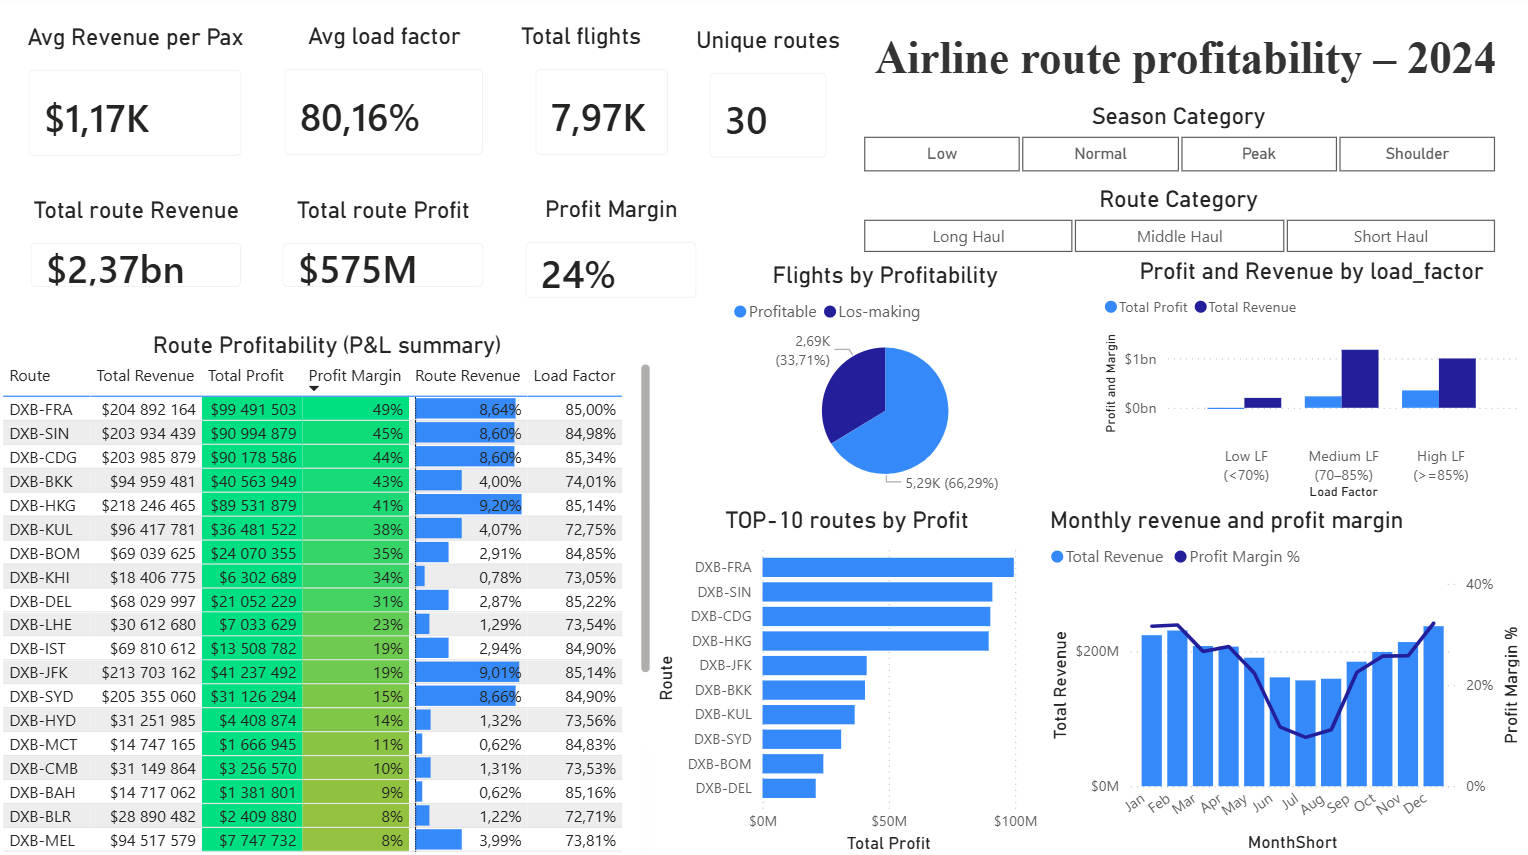

The dashboard page shown, as its layout file describes it:
{"tool":"powerbi","page":{"name":"Page 1","canvas":[1280,720],"ordinal":0},"visuals":[{"type":"cardVisual","title":"Total route Revenue","fields":{"Data":["airline_route_profitability.Total Revenue sum"]},"box":[11.7,167.3,210.8,93.7],"z":0},{"type":"cardVisual","title":"Total route Profit","fields":{"Data":["airline_route_profitability.Total Profit"]},"box":[222.5,167.3,202.5,93.7],"z":1000},{"type":"cardVisual","title":"Profit Margin","fields":{"Data":["airline_route_profitability.Profit Margin %"]},"box":[425.2,166.6,177.5,103],"z":2000},{"type":"cardVisual","title":"Avg Revenue per Pax","fields":{"Data":["airline_route_profitability.Revenue per Passanger"]},"box":[9.8,22.2,212.8,128.6],"z":3000},{"type":"cardVisual","title":"Avg load factor","fields":{"Data":["airline_route_profitability.Avg Load Factor %"]},"box":[224.2,21.8,200.8,128.8],"z":4000},{"type":"tableEx","title":"Route Profitability (P&L summary)","fields":{"Values":["airline_route_profitability.Route","airline_route_profitability.Total Revenue sum","airline_route_profitability.Total Profit","airline_route_profitability.Profit Margin %","airline_route_profitability.Route Revenue Share %","airline_route_profitability.Avg Load Factor %"]},"box":[0,280.2,552.4,439.8],"z":5000},{"type":"clusteredBarChart","title":"TOP-10 routes by Profit","fields":{"Category":["airline_route_profitability.Route"],"Y":["airline_route_profitability.Total Profit"]},"box":[546.2,425.6,329,294.4],"z":6000},{"type":"pieChart","title":"Flights by Profitability","fields":{"Category":["airline_route_profitability.Profitability_band"],"Y":["airline_route_profitability.Total Flights"]},"box":[610.9,221.7,264.2,199.5],"z":7000},{"type":"clusteredColumnChart","title":"Profit and Revenue by load_factor","fields":{"Category":["airline_route_profitability.Load_Factor_Band"],"Y":["airline_route_profitability.Total Profit","airline_route_profitability.Total Revenue sum"]},"box":[920.4,218.1,356.5,206.6],"z":8000},{"type":"lineStackedColumnComboChart","title":"Monthly revenue and profit margin","fields":{"Y2":["airline_route_profitability.Profit Margin %"],"Y":["airline_route_profitability.Total Revenue sum"],"Category":["DimDate.MonthShort"]},"box":[875.2,425.6,401.7,294.4],"z":9000},{"type":"textbox","box":[711.1,25.1,565.5,63.6],"z":10000},{"type":"cardVisual","title":"Total flights","fields":{"Data":["airline_route_profitability.Total Flights"]},"box":[433.4,21.8,145.6,128.8],"z":11000},{"type":"cardVisual","title":"Unique routes","fields":{"Data":["airline_route_profitability.Total Routes"]},"box":[578.9,25.1,132.2,127.2],"z":12000},{"type":"slicer","title":" Season Category","fields":{"Values":["airline_route_profitability.Season"]},"box":[698.7,88.7,577.2,62.1],"z":13000},{"type":"slicer","title":"Route Category","fields":{"Values":["airline_route_profitability.Route_Category_Clean"]},"box":[698.7,157.8,577.2,56.7],"z":14000}]}

Visuals, with their boxes in screenshot pixels (x1, y1, x2, y2), scaled from the page's 1280x720 canvas onto the 1528x855 screenshot:
"Total route Revenue" cardVisual: pyautogui.locateOnScreen(14, 199, 266, 310)
"Total route Profit" cardVisual: pyautogui.locateOnScreen(266, 199, 507, 310)
"Profit Margin" cardVisual: pyautogui.locateOnScreen(508, 198, 719, 320)
"Avg Revenue per Pax" cardVisual: pyautogui.locateOnScreen(12, 26, 266, 179)
"Avg load factor" cardVisual: pyautogui.locateOnScreen(268, 26, 507, 179)
"Route Profitability (P&L summary)" tableEx: pyautogui.locateOnScreen(0, 333, 659, 854)
"TOP-10 routes by Profit" clusteredBarChart: pyautogui.locateOnScreen(652, 505, 1045, 854)
"Flights by Profitability" pieChart: pyautogui.locateOnScreen(729, 263, 1045, 500)
"Profit and Revenue by load_factor" clusteredColumnChart: pyautogui.locateOnScreen(1099, 259, 1524, 504)
"Monthly revenue and profit margin" lineStackedColumnComboChart: pyautogui.locateOnScreen(1045, 505, 1524, 854)
textbox: pyautogui.locateOnScreen(849, 30, 1524, 105)
"Total flights" cardVisual: pyautogui.locateOnScreen(517, 26, 691, 179)
"Unique routes" cardVisual: pyautogui.locateOnScreen(691, 30, 849, 181)
" Season Category" slicer: pyautogui.locateOnScreen(834, 105, 1523, 179)
"Route Category" slicer: pyautogui.locateOnScreen(834, 187, 1523, 255)
